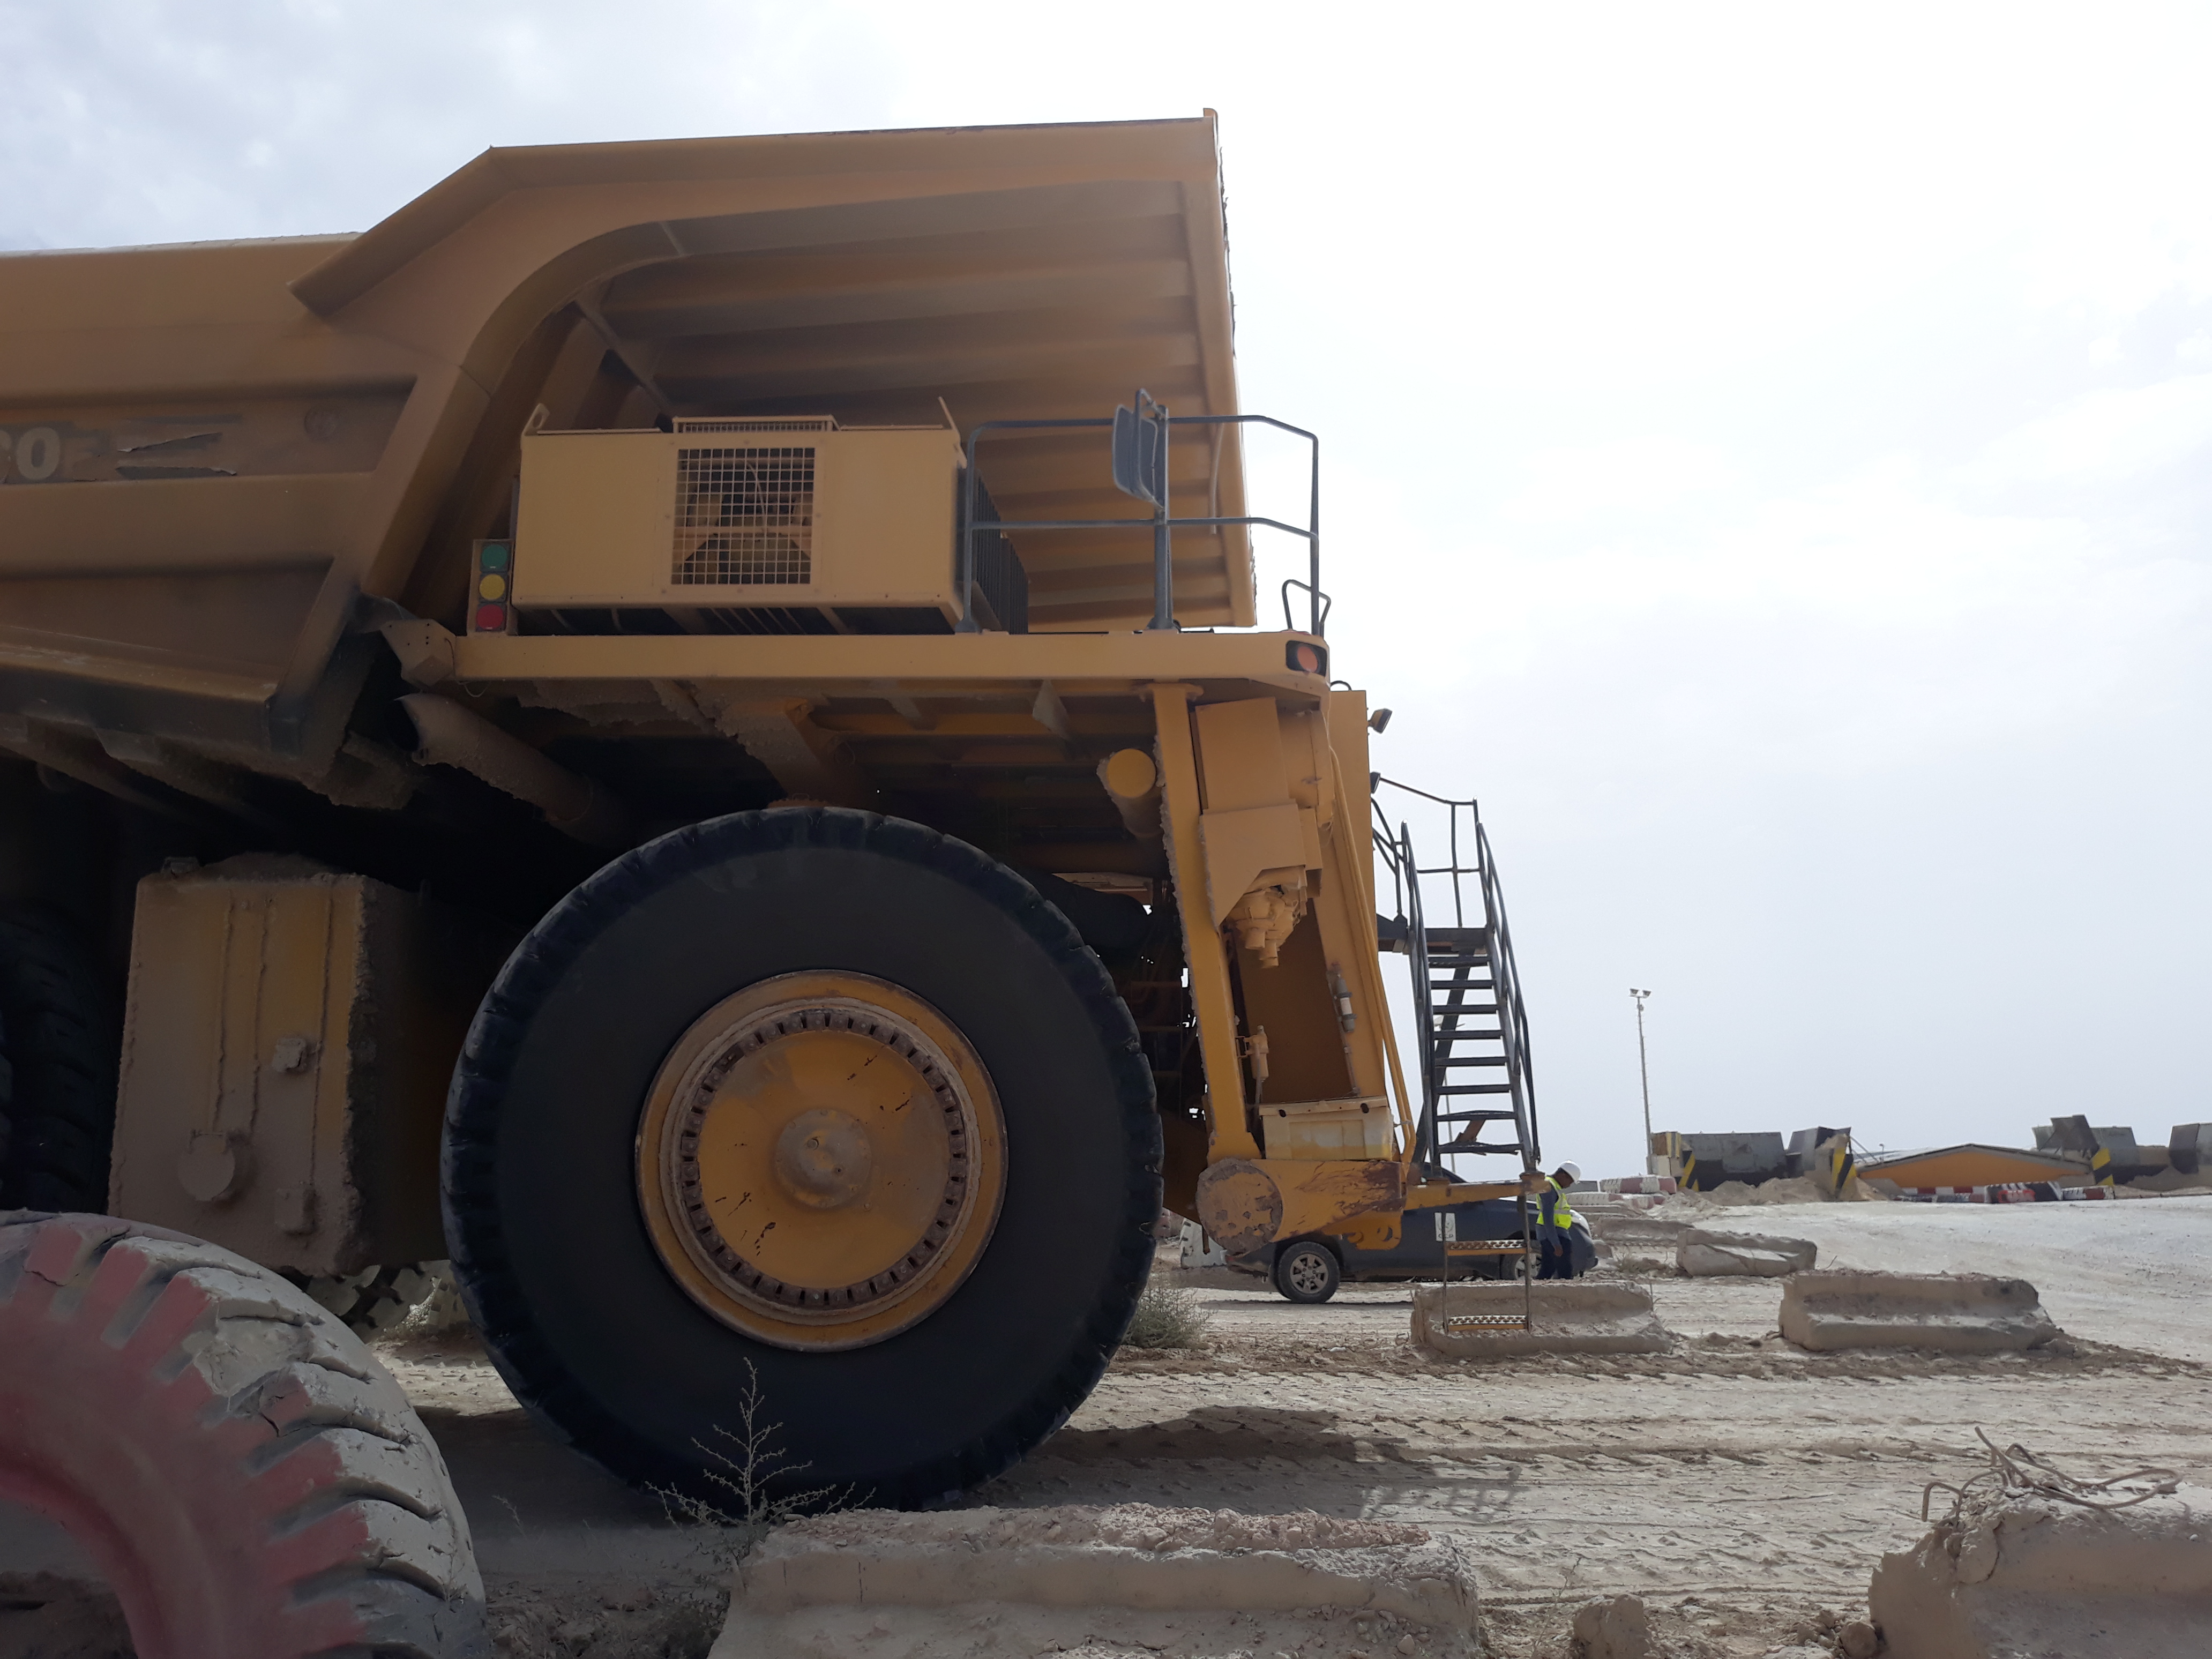camion: (1, 74, 1549, 1552)
car: (1216, 1139, 1654, 1307)
person: (1518, 1131, 1609, 1309)
